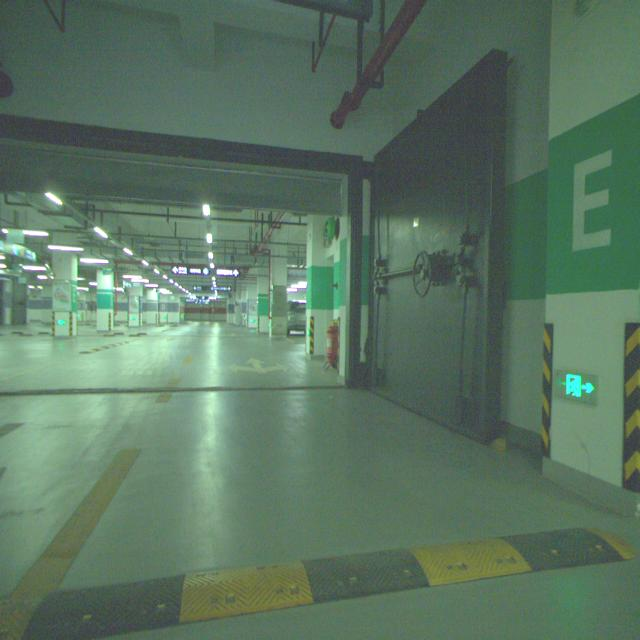pillar: (52, 252, 78, 336), (96, 275, 114, 331)
